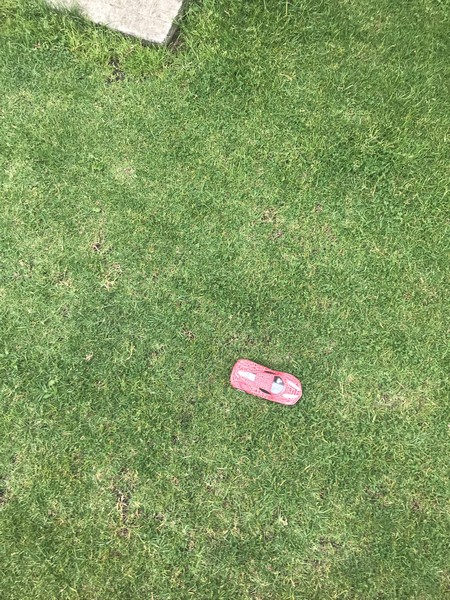RC: (228, 357, 303, 406)
